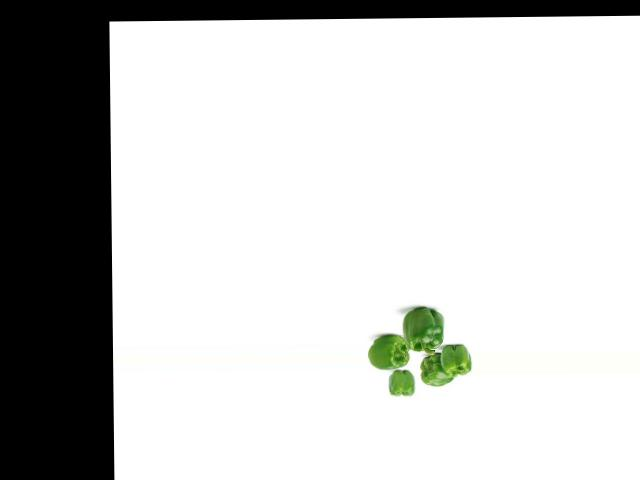bell_pepper: (437, 340, 472, 375)
